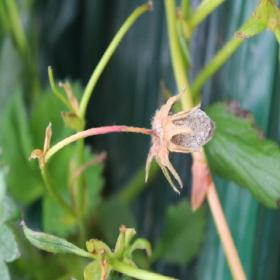Gray Mold: (139, 88, 216, 195)
